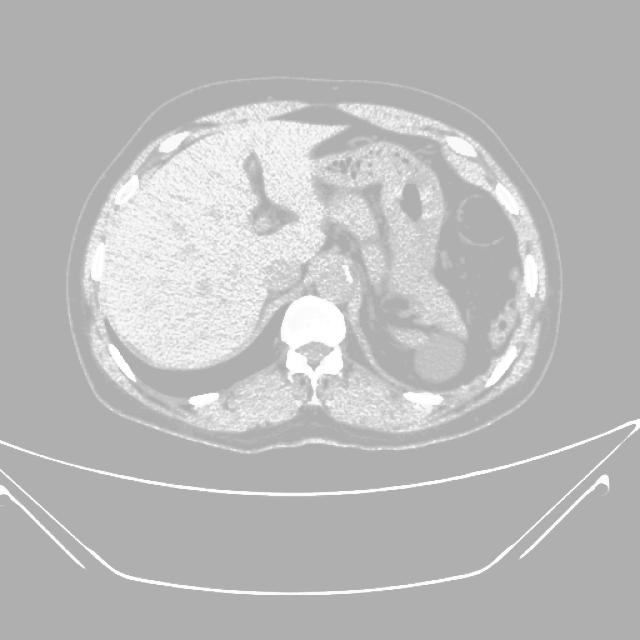cysts: (65, 81, 563, 455)
